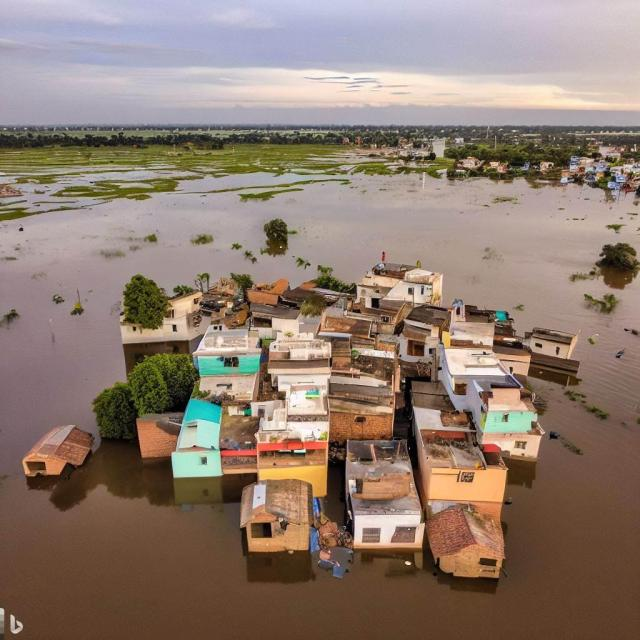flood: (0, 178, 640, 640), (19, 241, 584, 582), (0, 164, 179, 219), (178, 170, 346, 193), (352, 176, 379, 188), (432, 138, 447, 157)
house: (247, 386, 330, 496), (347, 456, 432, 556), (427, 503, 507, 588), (423, 432, 510, 509), (245, 477, 322, 552), (328, 366, 402, 443), (118, 285, 205, 349), (474, 388, 545, 461), (358, 251, 447, 305), (172, 390, 224, 478), (440, 338, 534, 384), (22, 422, 96, 476), (268, 333, 334, 385), (192, 321, 266, 367), (135, 412, 189, 462), (332, 298, 396, 340), (530, 325, 582, 376), (401, 300, 453, 342), (242, 276, 292, 308)
